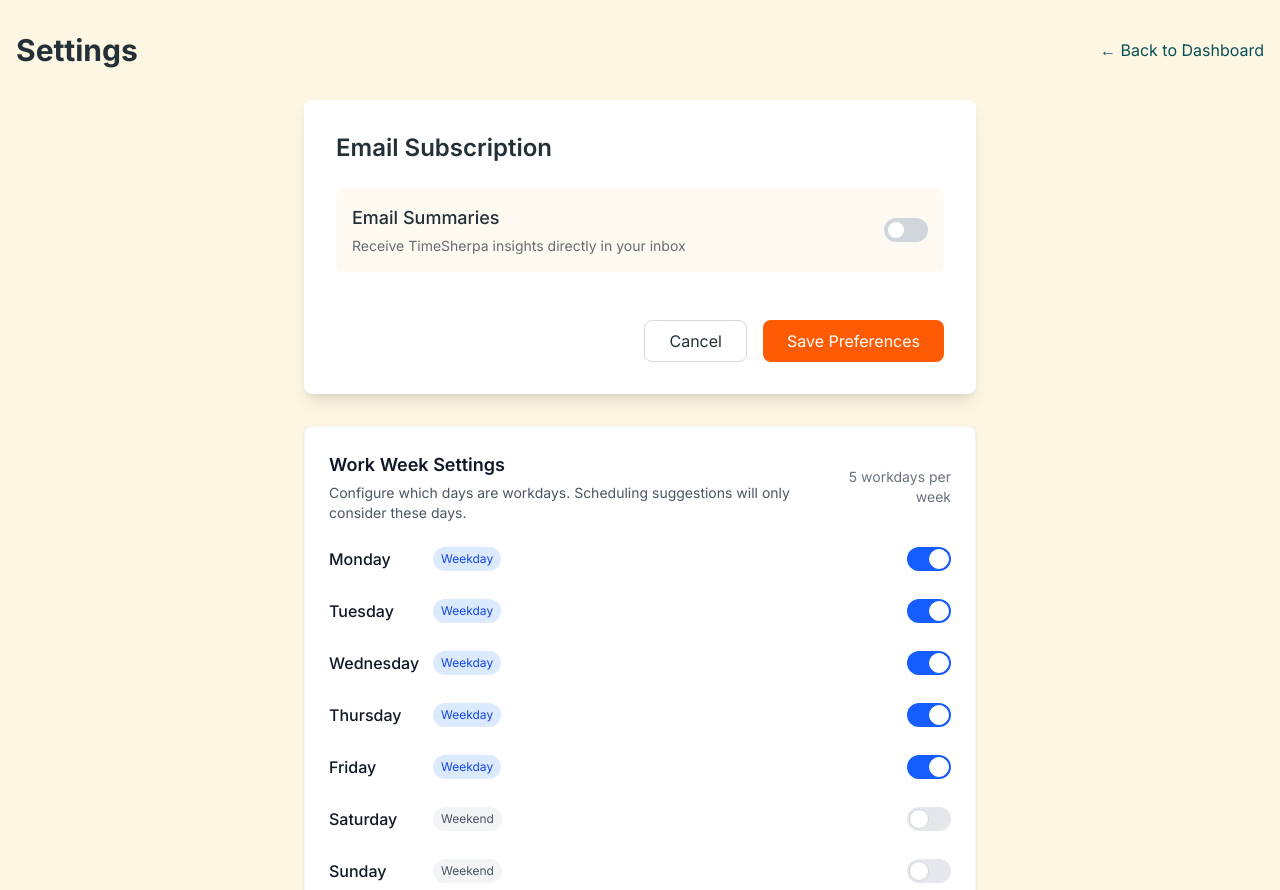
Test case: Settings › handles save preferences error
Click the button "Save Preferences".
click(853, 341)  # box [763,320,944,362]
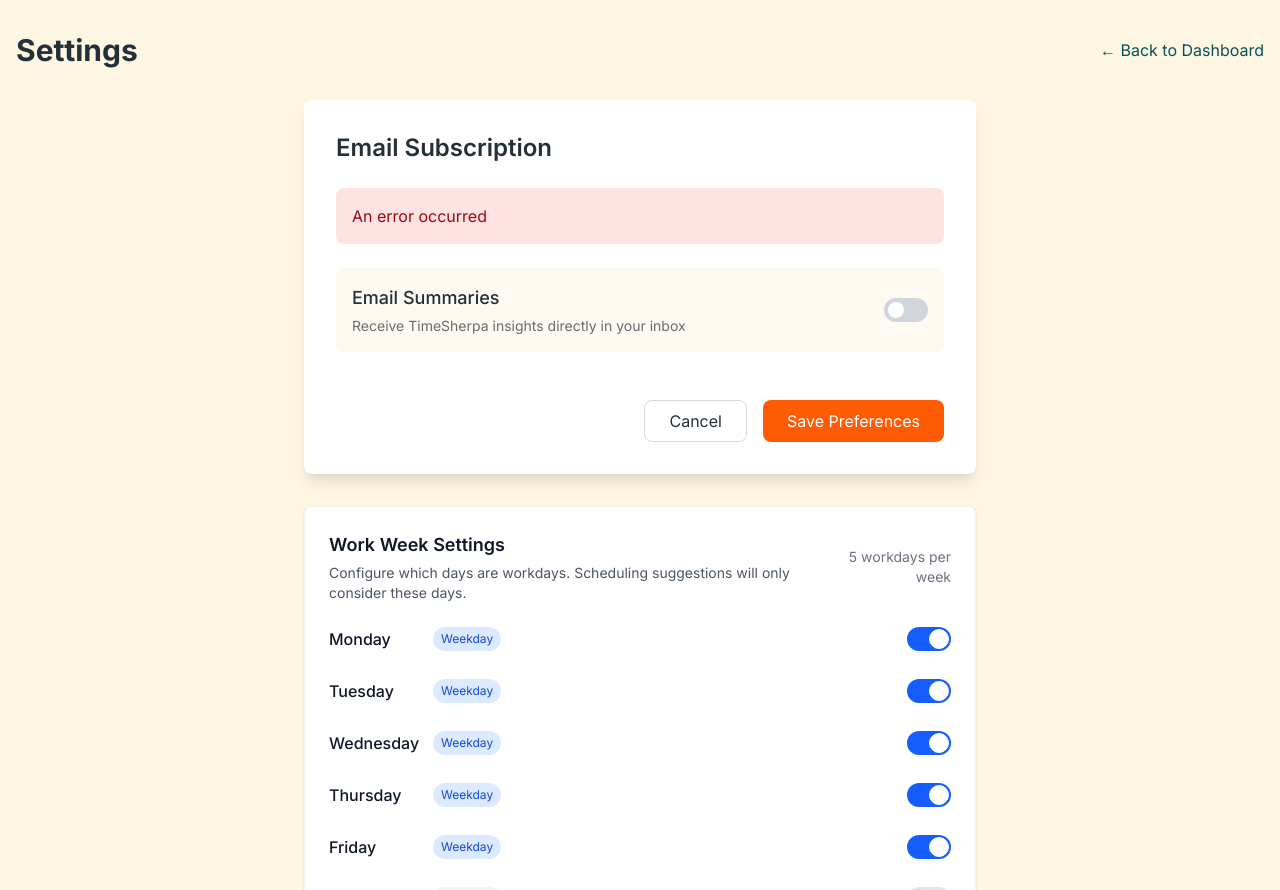
Expected: the text "An error occurred" is shown, [336,188,944,244]
